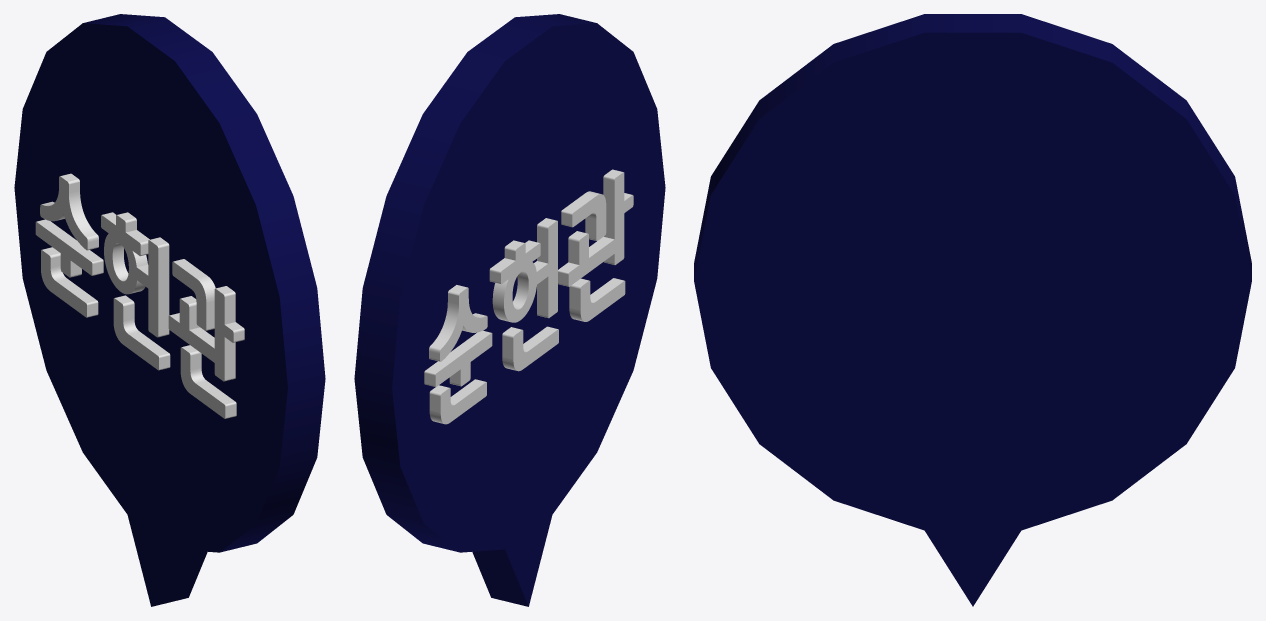
The model's file is SM_Sunhun_Sign.FBX.
3 views of the same model, side by side, from view 1: azimuth 30°, elevation 25°; view 2: azimuth 150°, elevation 25°; view 3: azimuth 270°, elevation 25° (orthographic).
Visible parts, largest first — view 1: Cylinder002; view 2: Cylinder002; view 3: Cylinder002.
Boxes of the visible parts, left/top/right/bottom form: Cylinder002: left=14, top=14, right=325, bottom=606; Cylinder002: left=354, top=14, right=665, bottom=606; Cylinder002: left=694, top=14, right=1251, bottom=606.
Size of the model in its own units: 4.37 by 48.22 by 42.45.
